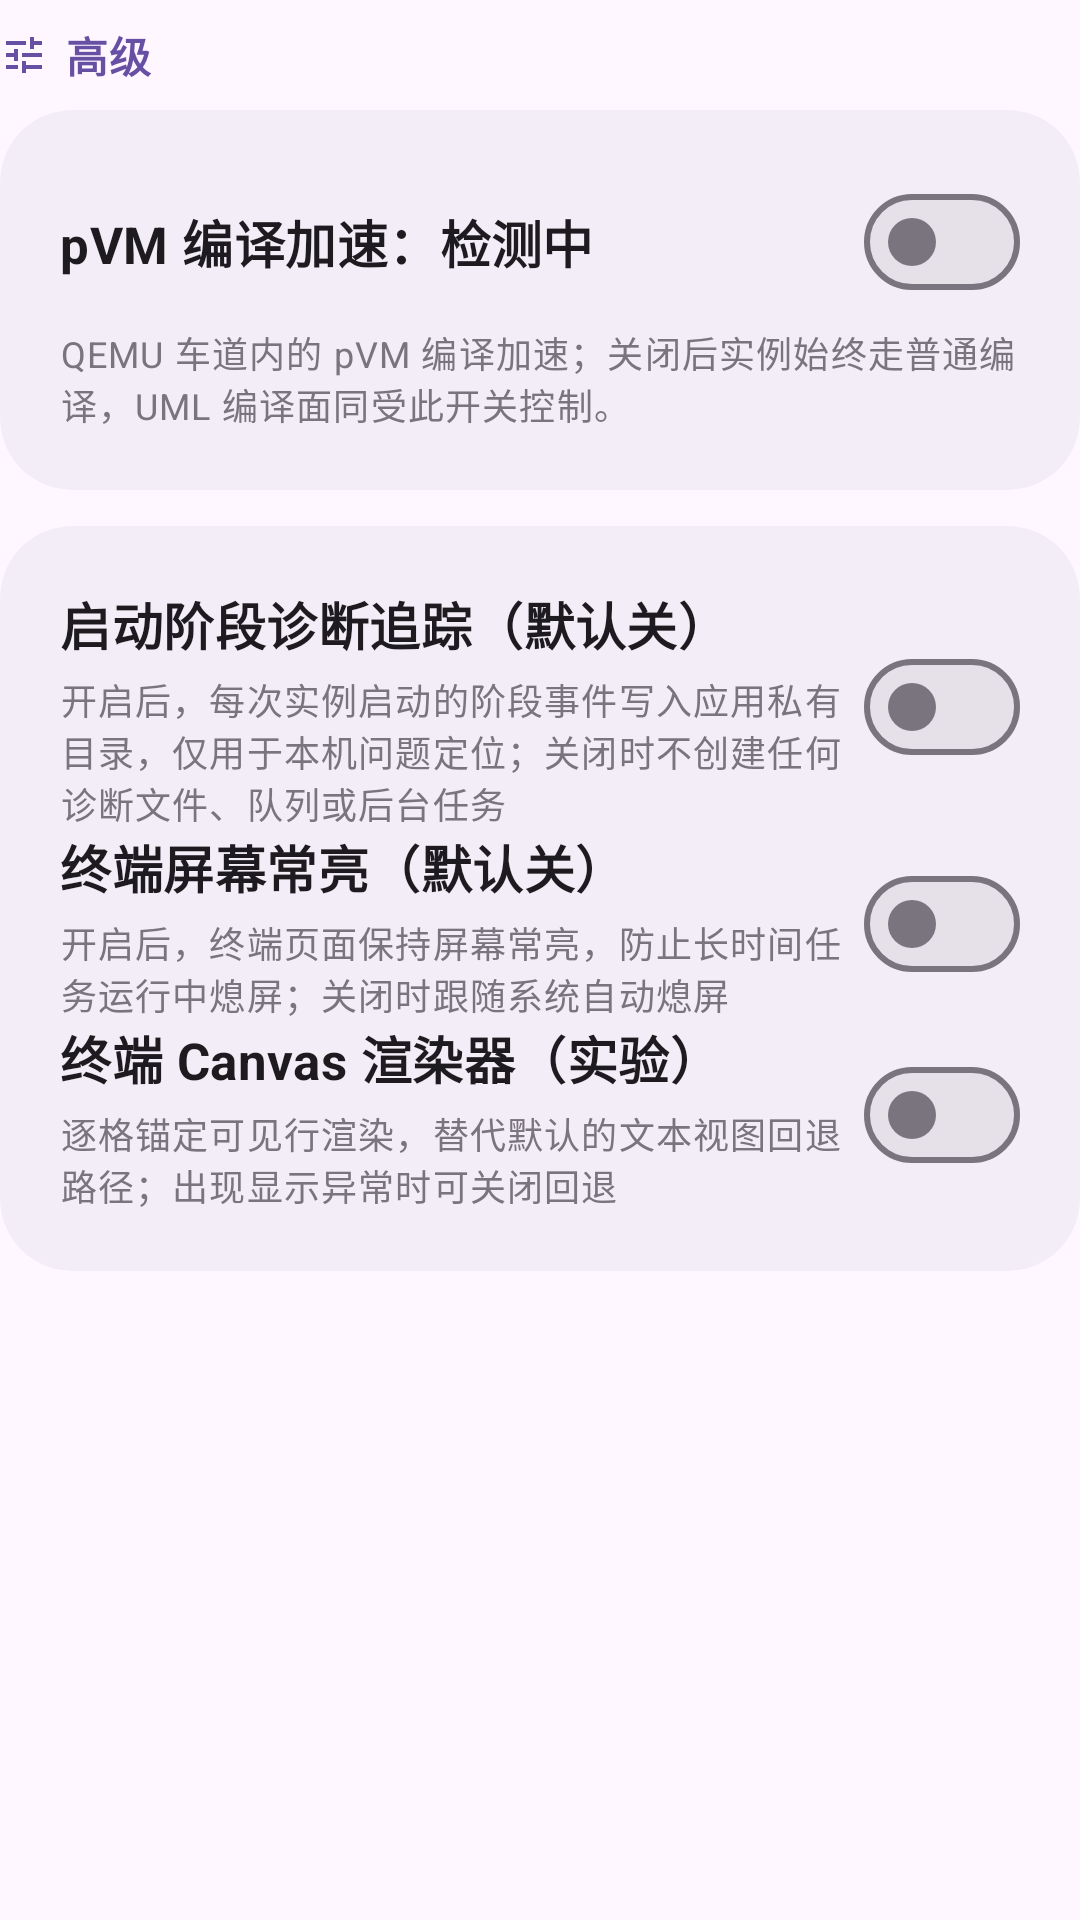

Icons on this 1080w x 1920h Android screen, each with the point to tap as [x,y]:
sym tune: [24,55]
